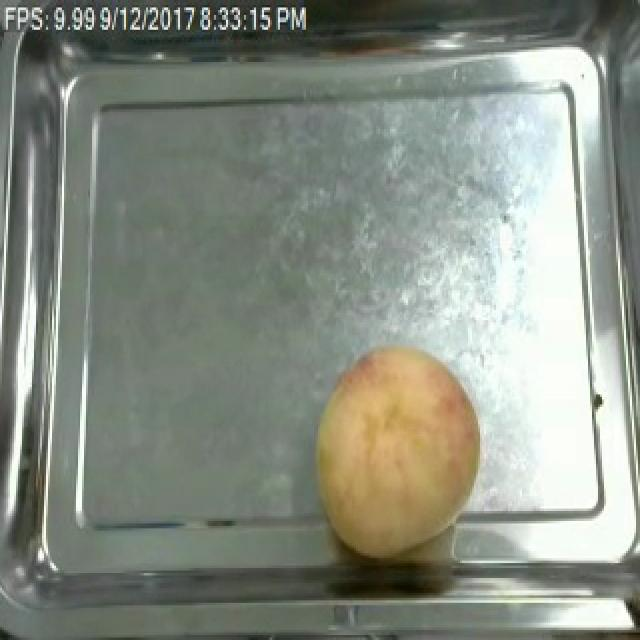Fruit: (302, 337, 490, 561)
